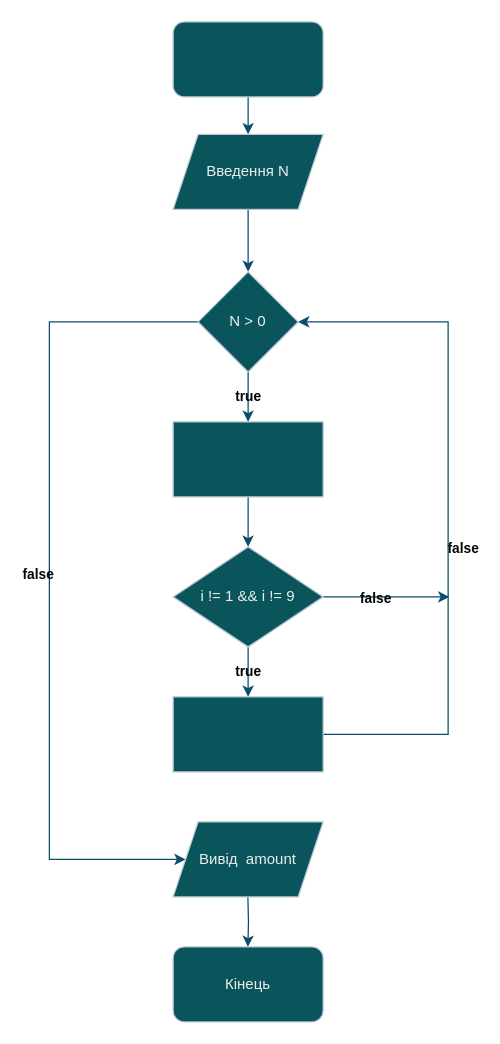
This 500x1044 diagram has some shape labels left out. Here are the shapes that lost their labels. From the top down, the centre of each, then its label:
At point 247,59: "Початок".
At point 247,459: "i = N % 10; N = (N - i) / 10;".
At point 247,734: "amount ++;".
